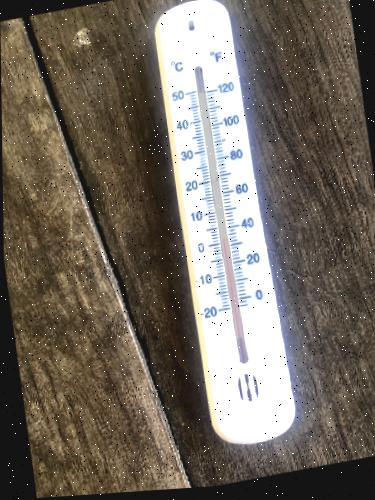thermo: (150, 0, 299, 439)
